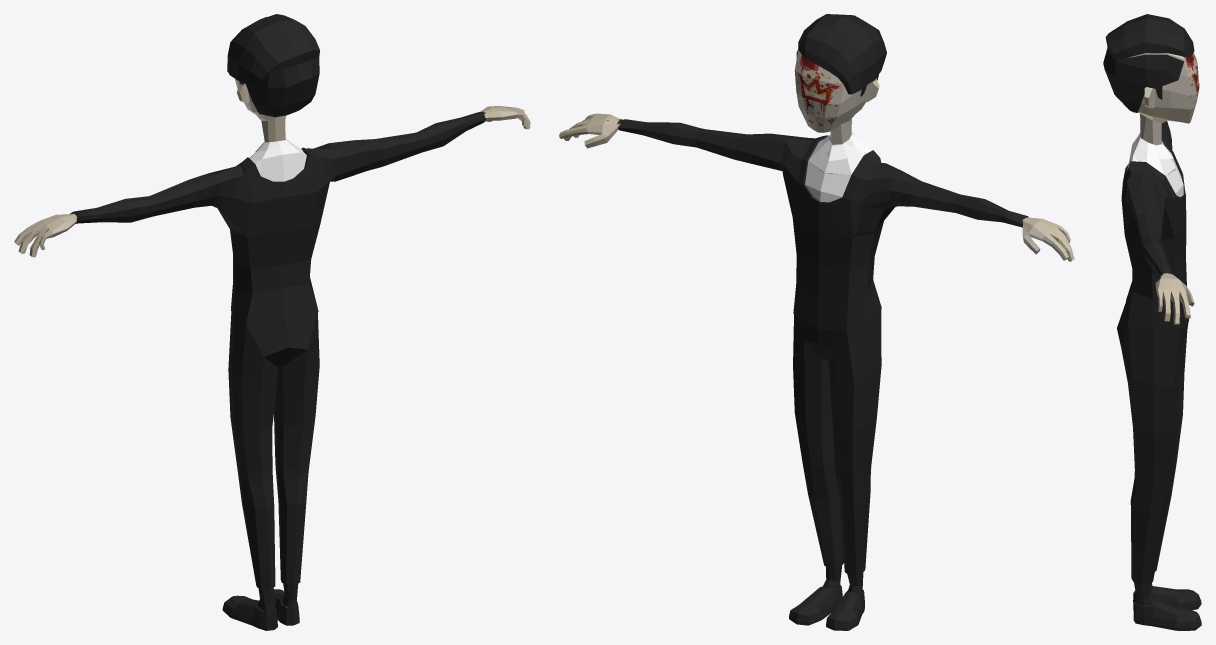
The model's file is killer.fbx.
3 renders of one model, left to right at view 1: azimuth 30°, elevation 25°; view 2: azimuth 150°, elevation 25°; view 3: azimuth 270°, elevation 25°, orthographic.
Visible parts, largest first — view 1: Liam_Shoes; view 2: Liam_Shoes; view 3: Liam_Shoes.
Part boxes in pixels (left/top/right/bottom): Liam_Shoes: left=14, top=14, right=530, bottom=630; Liam_Shoes: left=559, top=14, right=1074, bottom=630; Liam_Shoes: left=1103, top=14, right=1201, bottom=630.
Bounding box in the file's own units: 167 × 187 × 27.95.
